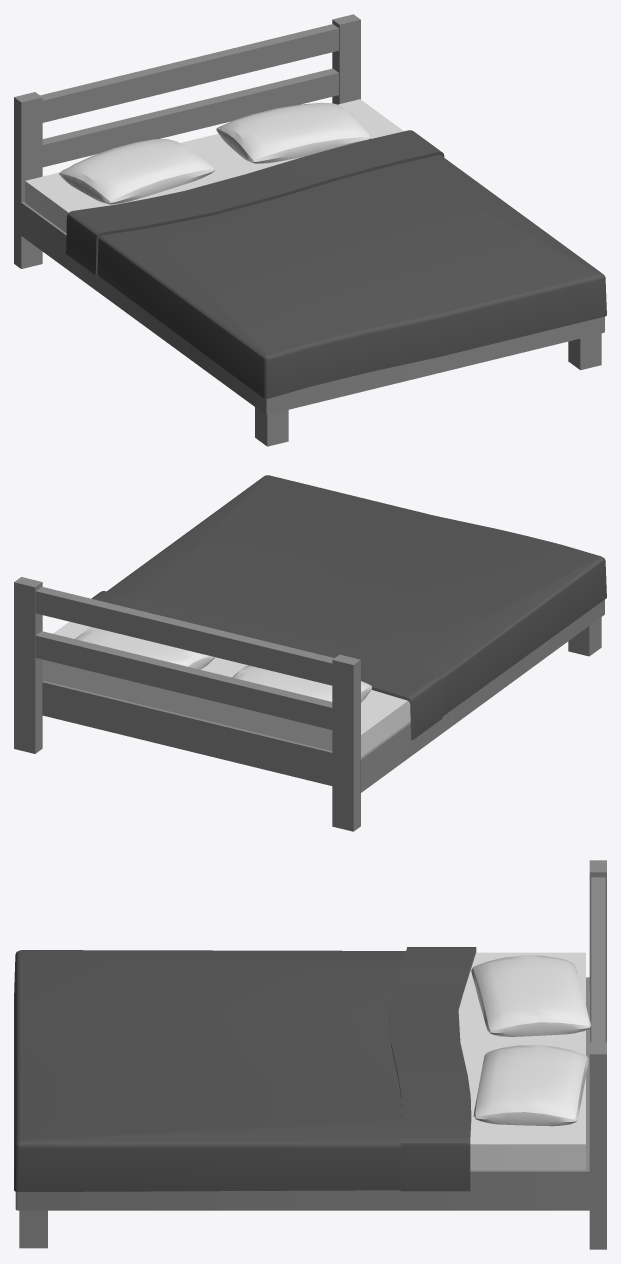
The model's file is Bed2_C1.fbx.
3 views of the same model, one above another, from view 1: azimuth 30°, elevation 25°; view 2: azimuth 150°, elevation 25°; view 3: azimuth 270°, elevation 25° (orthographic). The views are drawn at different scales.
Parts seen in each view (by area): view 1: Bed2_C1; view 2: Bed2_C1; view 3: Bed2_C1.
Boxes of the visible parts, left/top/right/bottom form: Bed2_C1: left=14, top=14, right=606, bottom=446; Bed2_C1: left=14, top=475, right=606, bottom=831; Bed2_C1: left=14, top=860, right=606, bottom=1249.
Size of the model in its own units: 163 by 75 by 206.
